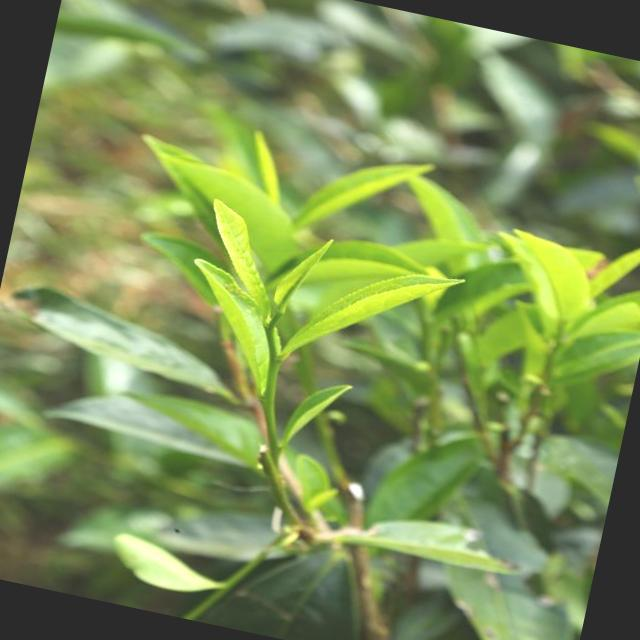Stem: (265, 324, 274, 334)
